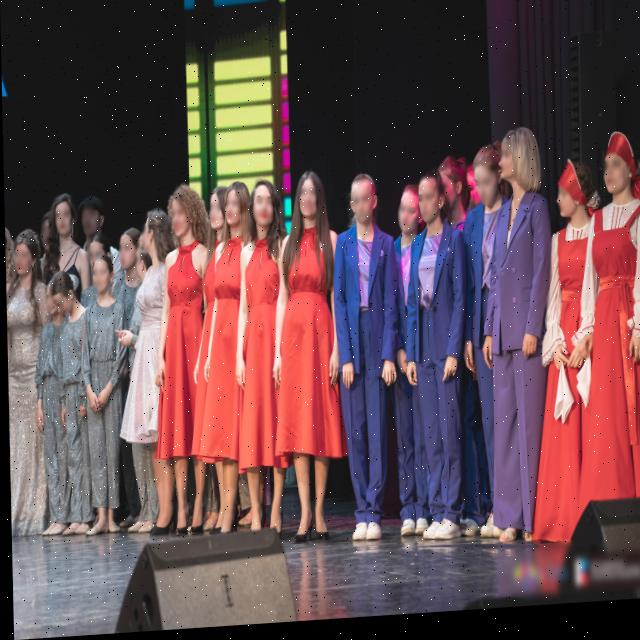Person: (330, 171, 396, 568), (493, 126, 550, 542), (284, 167, 345, 550), (405, 168, 466, 550), (468, 143, 521, 572), (544, 158, 602, 549), (588, 130, 640, 539), (242, 171, 296, 548), (159, 185, 217, 536), (389, 182, 438, 552), (75, 254, 132, 544), (4, 219, 52, 550), (215, 175, 255, 539), (135, 211, 178, 524), (35, 278, 77, 566), (51, 273, 93, 549), (39, 185, 84, 306), (117, 221, 149, 323), (112, 220, 142, 306), (76, 231, 116, 277), (75, 186, 104, 240), (35, 200, 54, 262)
